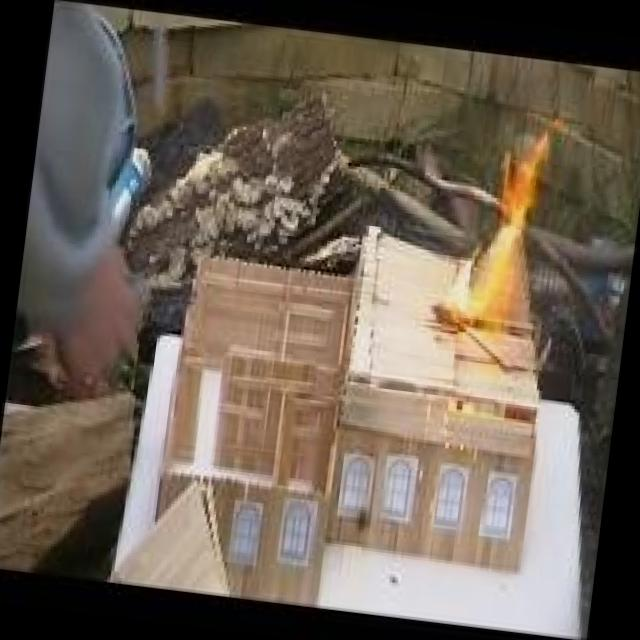fire: (458, 145, 564, 340)
